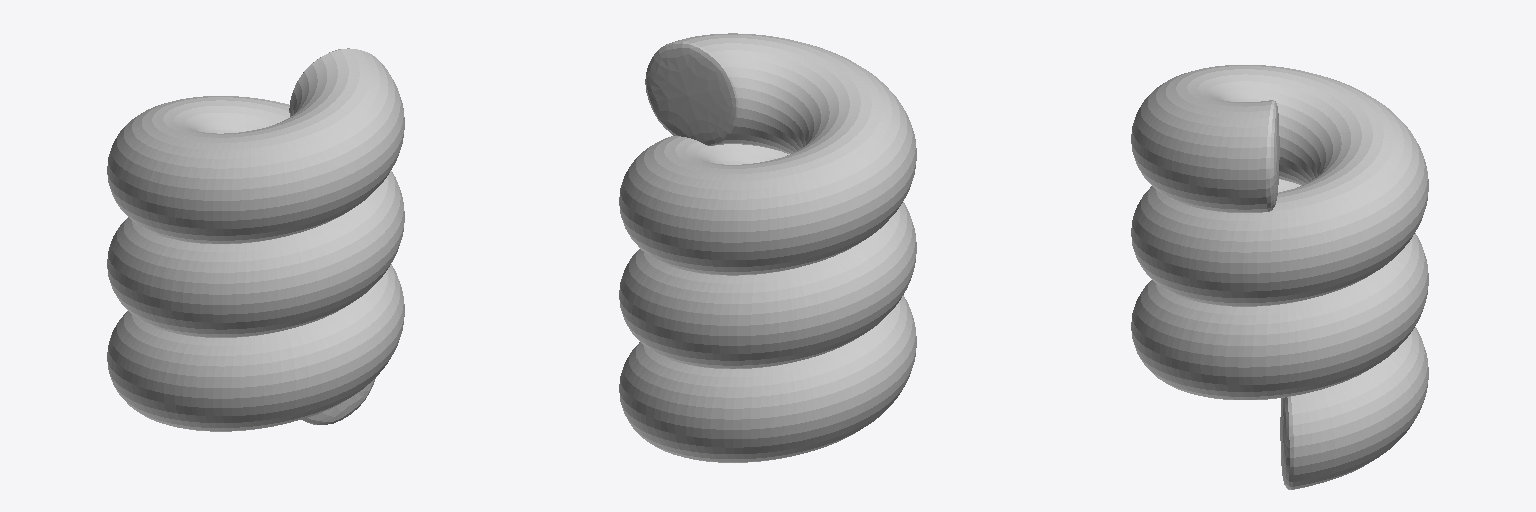
The model's file is helix_47.5.obj.
3 views of the same model, side by side, from view 1: azimuth 30°, elevation 25°; view 2: azimuth 150°, elevation 25°; view 3: azimuth 270°, elevation 25° (orthographic).
Visible parts, largest first — view 1: helix:pHelix1; view 2: helix:pHelix1; view 3: helix:pHelix1.
Boxes of the visible parts, box(x1,y1,x2,y2) form: helix:pHelix1: box(107, 48, 404, 431); helix:pHelix1: box(619, 33, 916, 462); helix:pHelix1: box(1131, 65, 1428, 489).
Size of the model in its own units: 1.92 by 2.71 by 1.92.